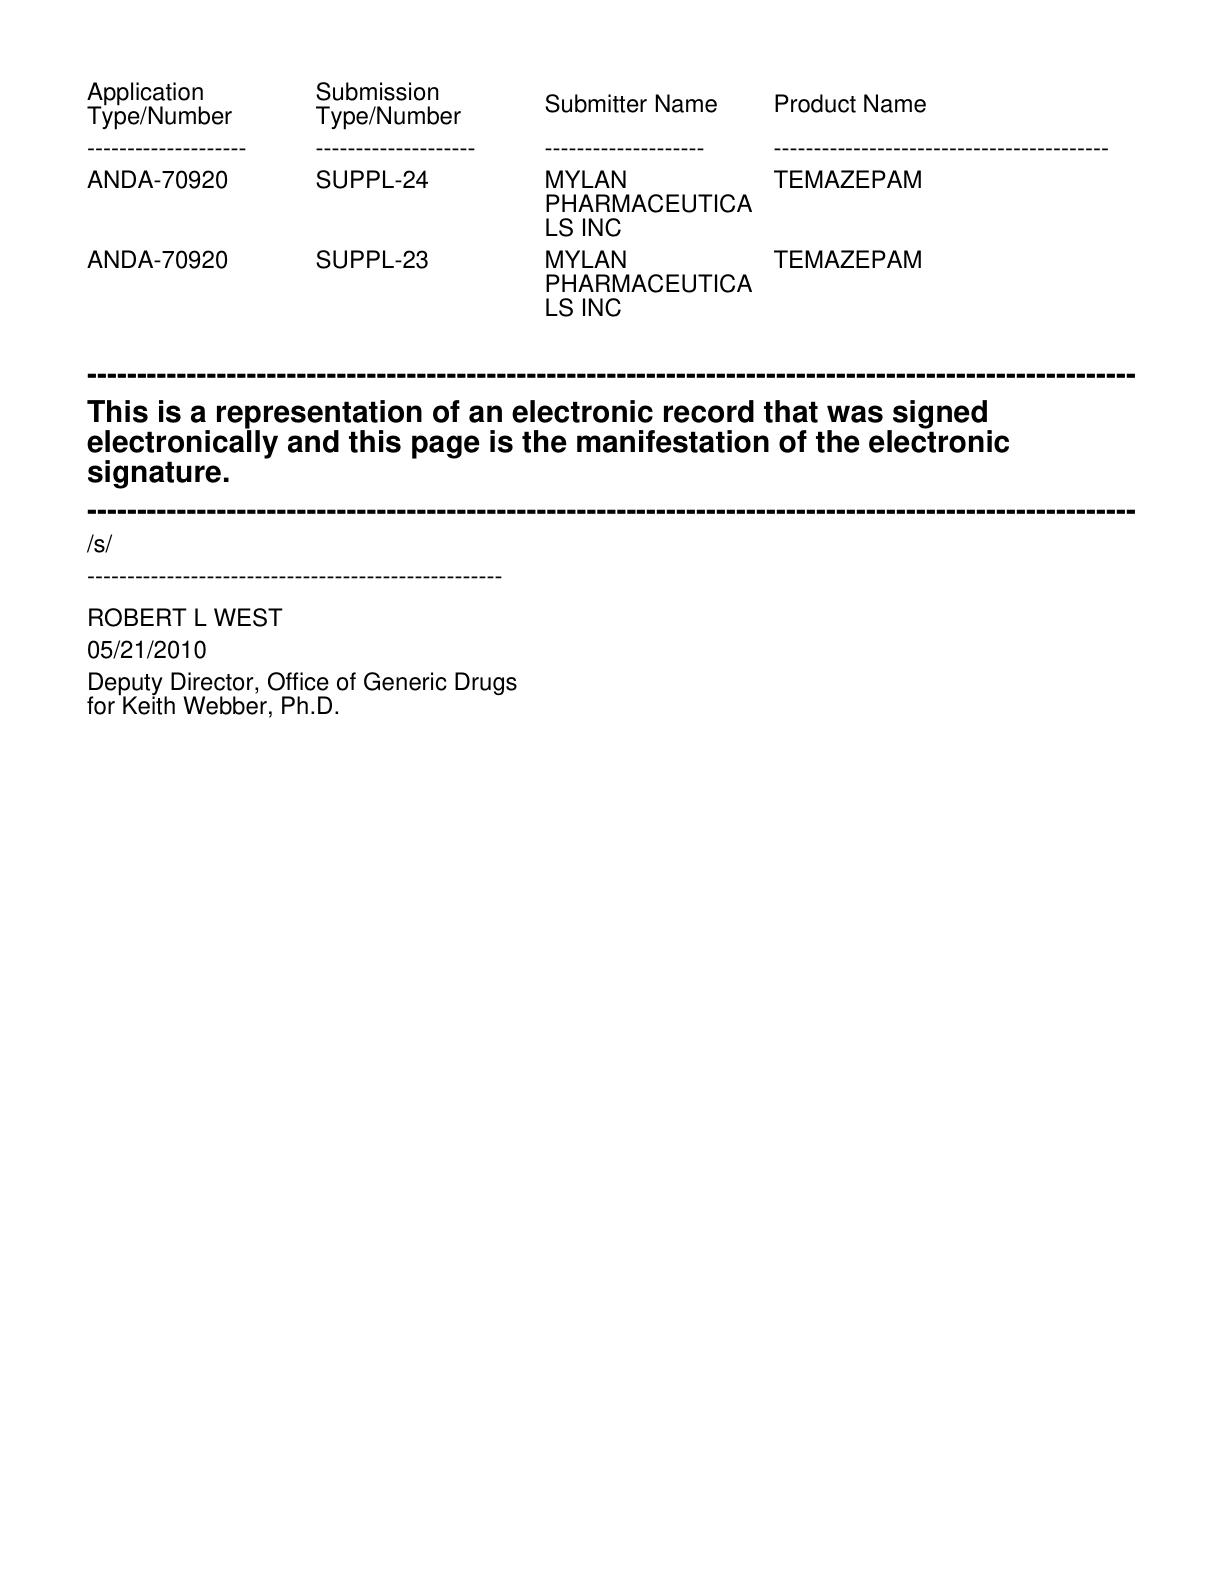nolines: (84, 75, 1111, 319)
